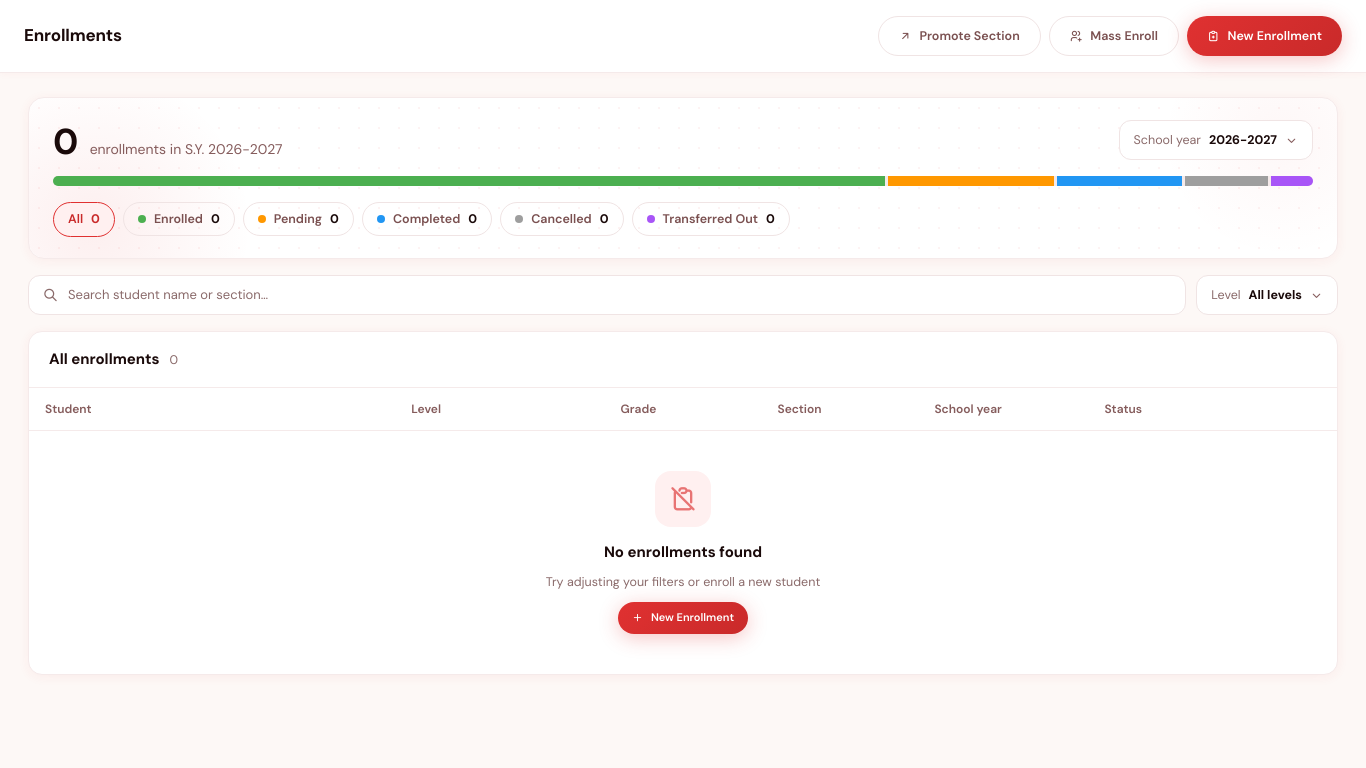
Test case: EnrollmentsPage — status band › filters by a status from its legend button, and clears it on a second click
The width and height of the screenshot is (1366, 768).
Click the button with aria-label "Pending 40" at x=298, y=219, box x1=243 y1=202 x2=354 y2=236
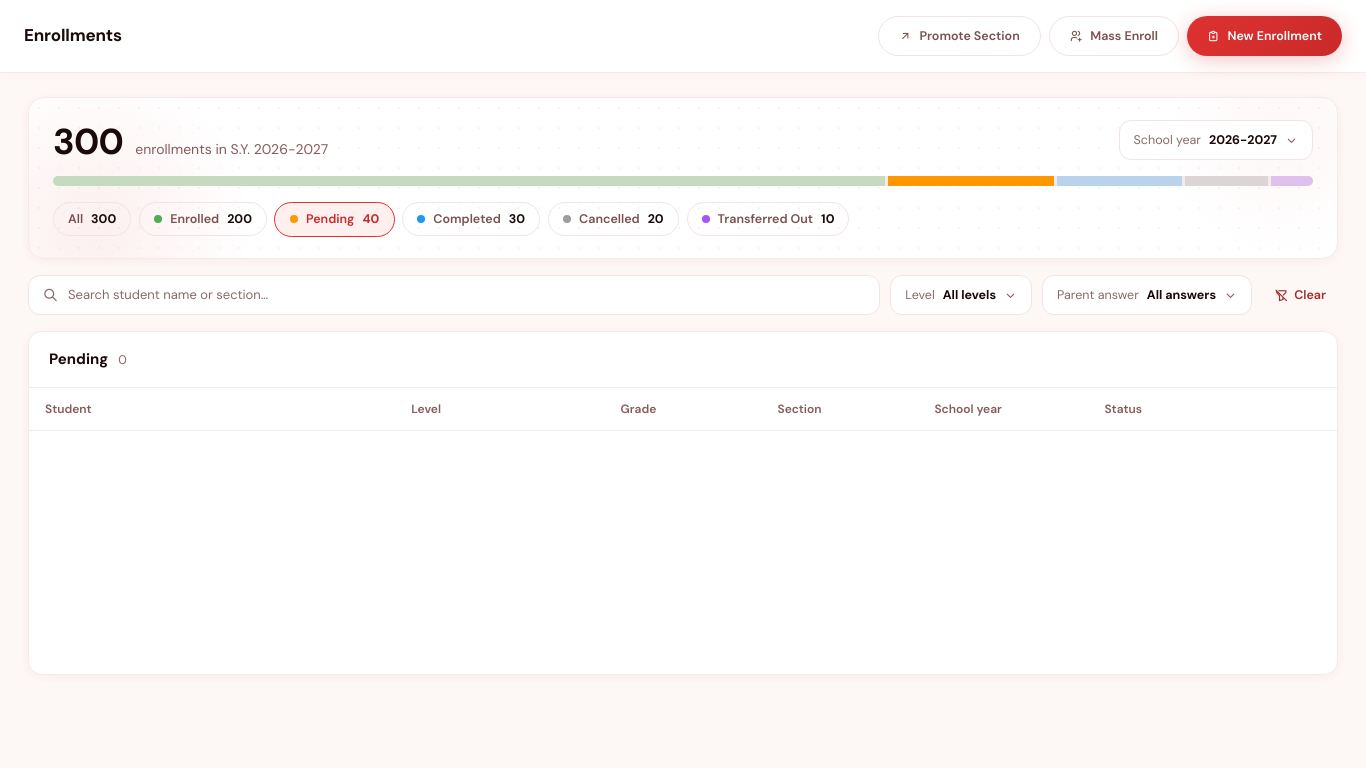
Result: the heading "Pending" is shown at x1=49 y1=348 x2=108 y2=370
Click the button "Pending 40" at x=335, y=219, box x1=275 y1=202 x2=394 y2=236
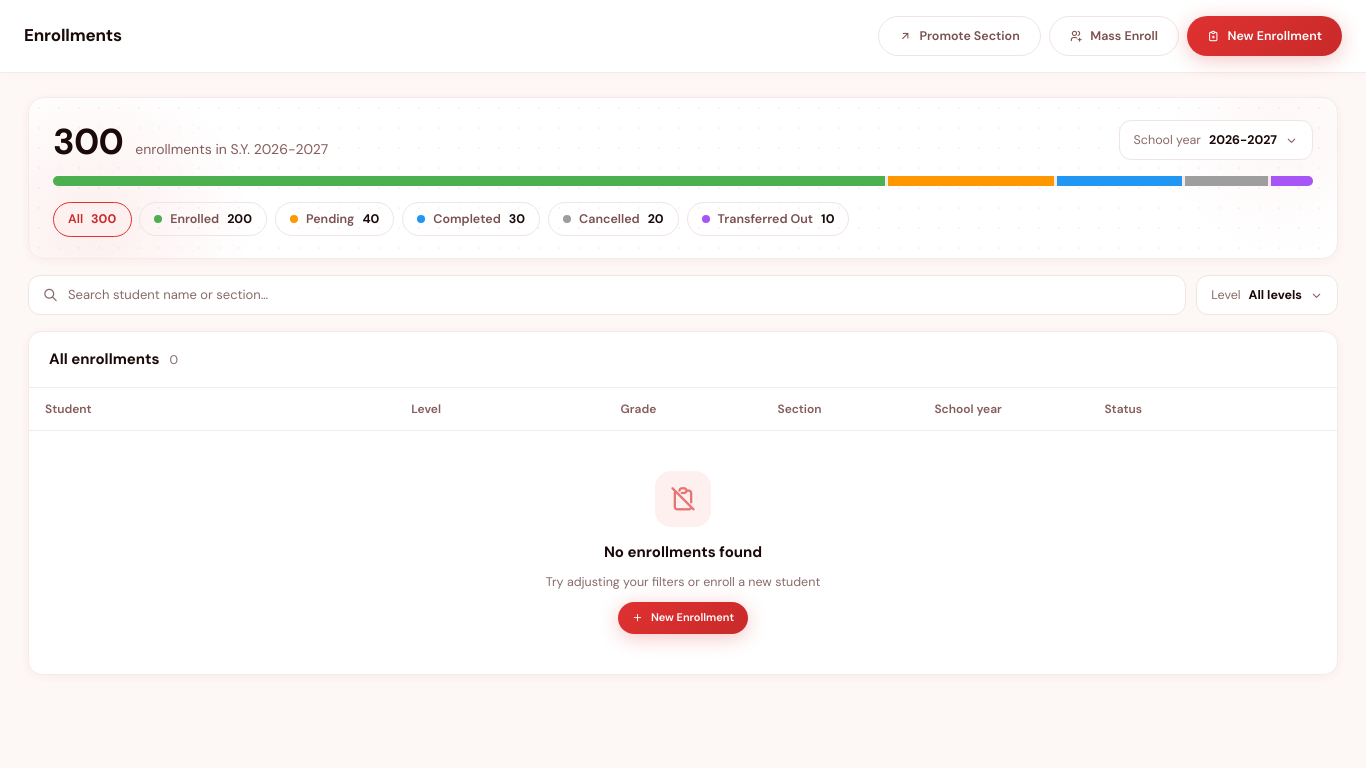
Result: the heading "All enrollments" is shown at x1=49 y1=348 x2=160 y2=370
